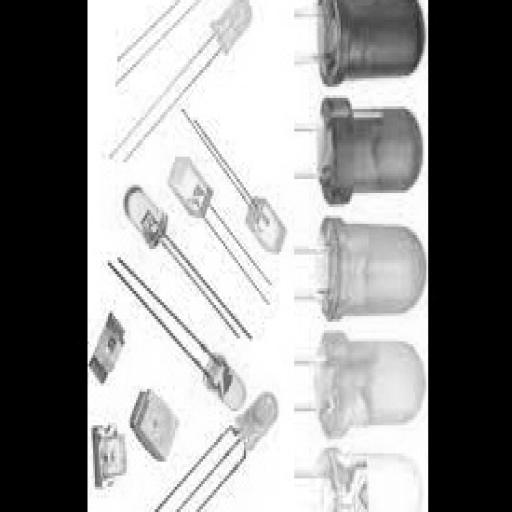LED: (116, 174, 259, 367), (304, 300, 467, 450), (285, 76, 431, 212), (307, 201, 445, 336), (305, 1, 461, 111), (295, 432, 490, 512), (194, 10, 264, 100), (190, 323, 256, 413)
